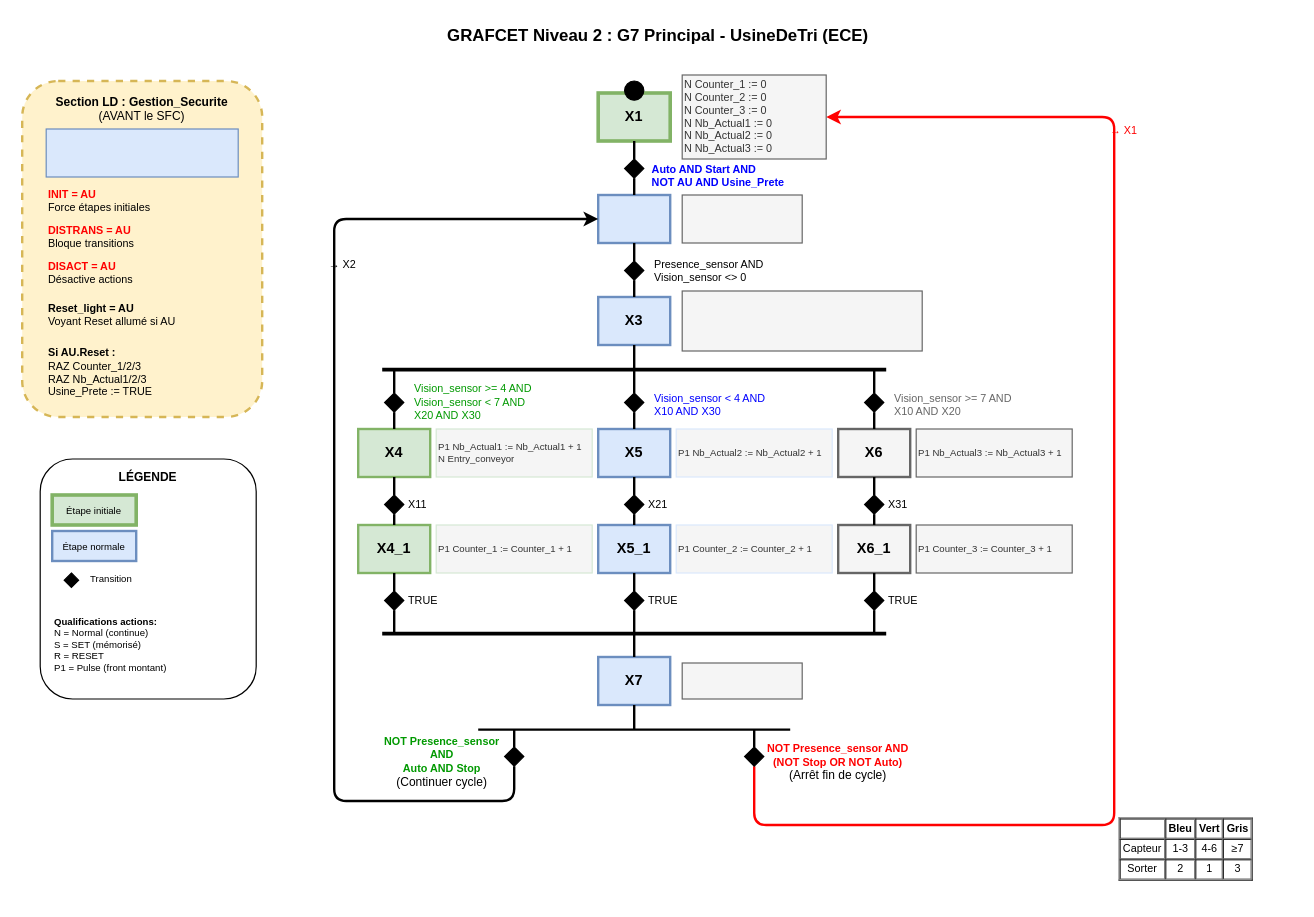
Image size: 1314x917. Some labels were removed from this diagram. Each missing label, with the box of its shape:
N Cnt_total := Counter_1+Counter_2+Counter_3 R Exit_conveyor: (681, 290, 922, 351)
N Entry_conveyor: (681, 662, 802, 699)
N Entry_conveyor N Start_light: (681, 194, 802, 243)
SFCCNTRL CHARTREF: UsineDeTri: (45, 128, 238, 177)
X2: (596, 193, 671, 244)
